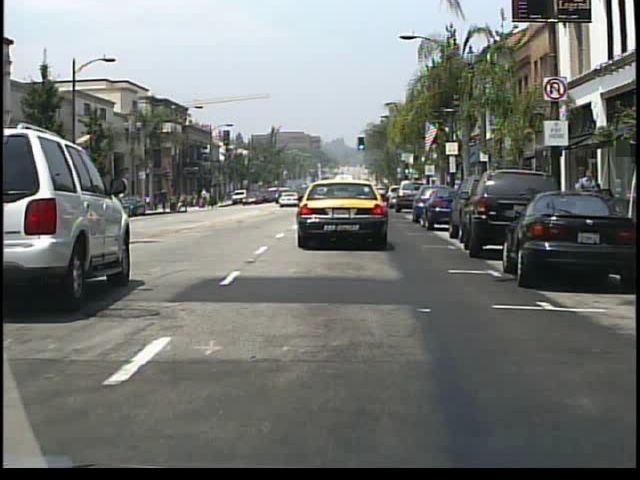person: (574, 164, 600, 229), (210, 191, 218, 209)
